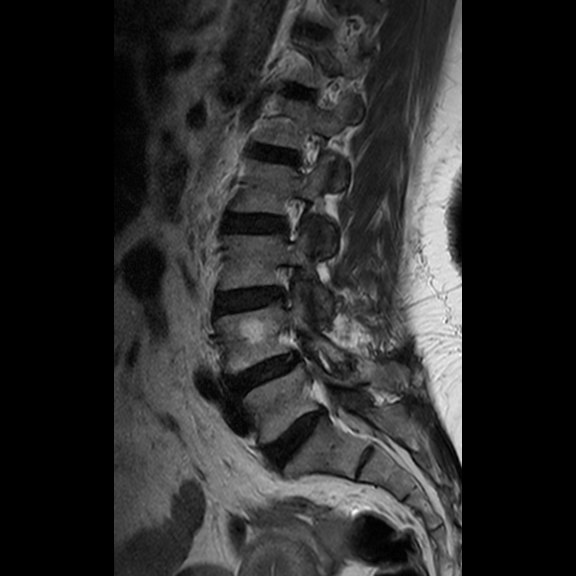LFS0: (270, 188, 316, 246)
LFS1: (260, 255, 307, 321)
